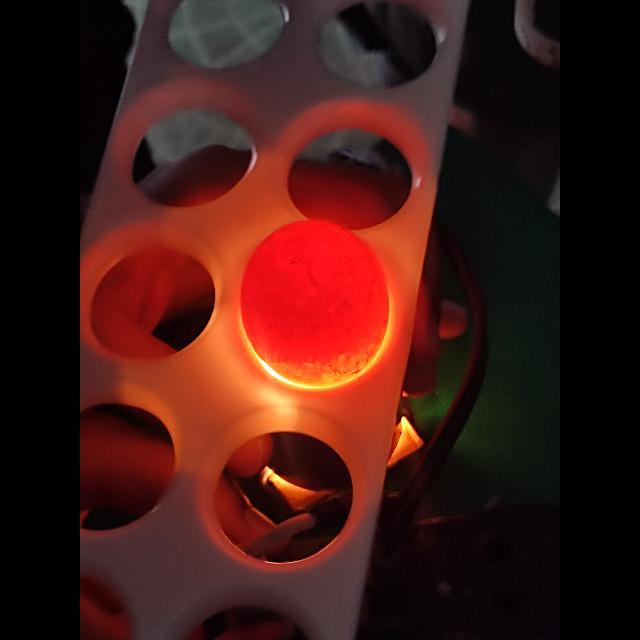Infertile: (240, 217, 396, 386)
